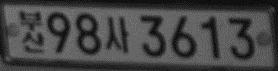1: (199, 16, 224, 59)
3: (228, 16, 256, 60), (139, 14, 167, 57)
6: (170, 15, 198, 58)
8: (74, 13, 102, 55)
9: (46, 10, 71, 54)
부산_V: (18, 9, 44, 53)
사: (105, 15, 130, 53)
